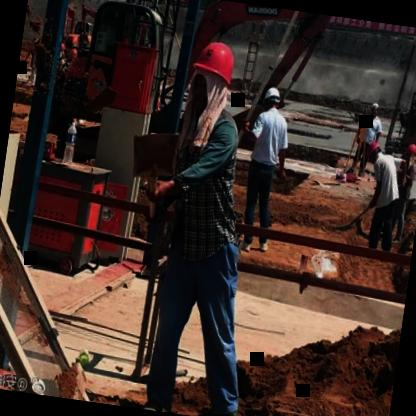helmet: (187, 37, 238, 117), (261, 84, 282, 112), (364, 138, 384, 164), (400, 141, 416, 167), (368, 99, 380, 122)
